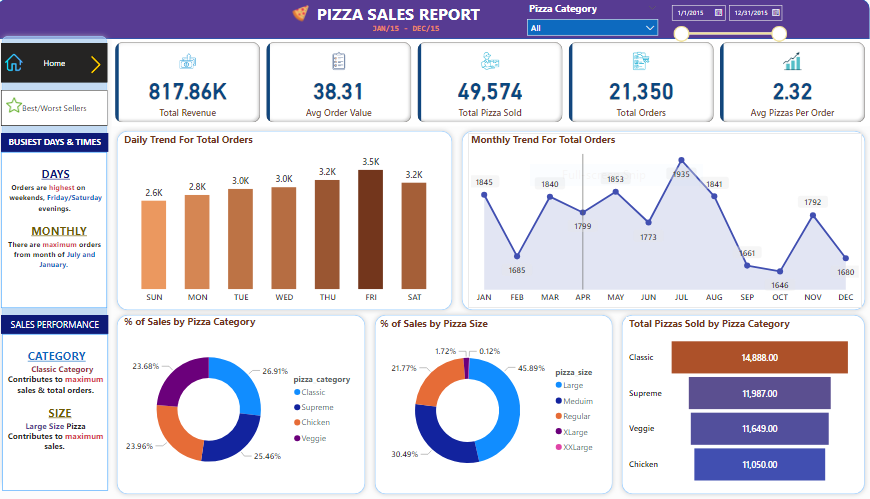

The page's visual inventory and layout, read from the dashboard file:
{"tool":"powerbi","page":{"name":"Home","canvas":[1500,820],"ordinal":0},"visuals":[{"type":"cardVisual","fields":{"Data":["pizza_sales.Total_Revenue","pizza_sales.Average Order Value","pizza_sales.Total Pizza Sold","pizza_sales.Total Orders","pizza_sales.Average Pizzas Per Order"]},"box":[231.4,65.7,1242.9,142.9],"z":0},{"type":"shape","box":[42.9,0,1431.4,65.7],"z":1000},{"type":"textbox","box":[540,0,322.9,52.9],"z":2000},{"type":"textbox","box":[642.9,32.9,140,40],"z":3000},{"type":"image","box":[514.3,5.7,51.4,37.1],"z":4000},{"type":"shape","box":[231.2,208.3,565.8,310],"z":5000},{"type":"clusteredColumnChart","title":"Daily Trend For Total Orders","fields":{"Category":["pizza_sales.Order Day"],"Y":["pizza_sales.Total Orders"]},"box":[246,219.8,536.3,287],"z":6000},{"type":"shape","box":[42.6,52.5,188.5,754.1],"z":7000},{"type":"shape","box":[797,208.3,677.3,310],"z":8000},{"type":"areaChart","title":"Monthly Trend For Total Orders","fields":{"Category":["pizza_sales.Order Month"],"Y":["pizza_sales.Total Orders"]},"box":[815.1,219.8,646.2,287],"z":9000},{"type":"shape","box":[231.2,510,423.1,310],"z":10000},{"type":"shape","box":[1060,510,414.3,310],"z":11000},{"type":"shape","box":[654.3,510,405.7,310],"z":12000},{"type":"donutChart","title":"% of Sales by Pizza Category","fields":{"Category":["pizza_sales.pizza_category"],"Y":["pizza_sales.Total Revenue"]},"box":[246,518.2,396.9,288.6],"z":13000},{"type":"donutChart","title":"% of Sales by Pizza Size","fields":{"Y":["pizza_sales.Total Revenue"],"Category":["pizza_sales.pizza_size"]},"box":[665.8,521.5,377.2,285.4],"z":14000},{"type":"funnel","title":"Total Pizzas Sold by Pizza Category","fields":{"Category":["pizza_sales.pizza_category"],"Y":["pizza_sales.Total Pizza Sold"]},"box":[1074.2,521.5,373.9,285.4],"z":15000},{"type":"textbox","box":[48.6,220,175.7,31.4],"z":16000},{"type":"textbox","box":[49.2,250.8,173.8,255.7],"z":17000},{"type":"textbox","box":[48.6,518.6,175.7,31.4],"z":18000},{"type":"textbox","box":[50.8,549.4,173.8,257.5],"z":19000},{"type":"slicer","fields":{"Values":["pizza_sales.pizza_category"]},"box":[902,0,234.5,65.6],"z":20000},{"type":"slicer","fields":{"Values":["pizza_sales.order_date"]},"box":[1136.1,0,209.8,70.5],"z":21000},{"type":"pageNavigator","box":[49.2,72.1,175.4,65.6],"z":21001},{"type":"pageNavigator","box":[49.2,149.2,175.4,59],"z":21002},{"type":"image","box":[185.2,72.1,39.3,70.5],"z":21003},{"type":"image","box":[50.8,75.4,39.3,57.4],"z":21004},{"type":"image","box":[50.8,155.7,39.3,36.1],"z":21005}]}

Visuals, with their boxes on the page's 1500x820 design canvas (x1, y1, x2, y2). These are canvas units, not pixel positions in the 870x499 screenshot, which may show the page scaled, cropped or inside an application window:
cardVisual - pizza_sales.Total_Revenue x pizza_sales.Average Order Value: 231/66/1474/209
shape: 43/0/1474/66
textbox: 540/0/863/53
textbox: 643/33/783/73
image: 514/6/566/43
shape: 231/208/797/518
"Daily Trend For Total Orders" clusteredColumnChart: 246/220/782/507
shape: 43/52/231/807
shape: 797/208/1474/518
"Monthly Trend For Total Orders" areaChart: 815/220/1461/507
shape: 231/510/654/820
shape: 1060/510/1474/820
shape: 654/510/1060/820
"% of Sales by Pizza Category" donutChart: 246/518/643/807
"% of Sales by Pizza Size" donutChart: 666/522/1043/807
"Total Pizzas Sold by Pizza Category" funnel: 1074/522/1448/807
textbox: 49/220/224/251
textbox: 49/251/223/506
textbox: 49/519/224/550
textbox: 51/549/225/807
slicer - pizza_sales.pizza_category: 902/0/1136/66
slicer - pizza_sales.order_date: 1136/0/1346/70
pageNavigator: 49/72/225/138
pageNavigator: 49/149/225/208
image: 185/72/224/143
image: 51/75/90/133
image: 51/156/90/192
